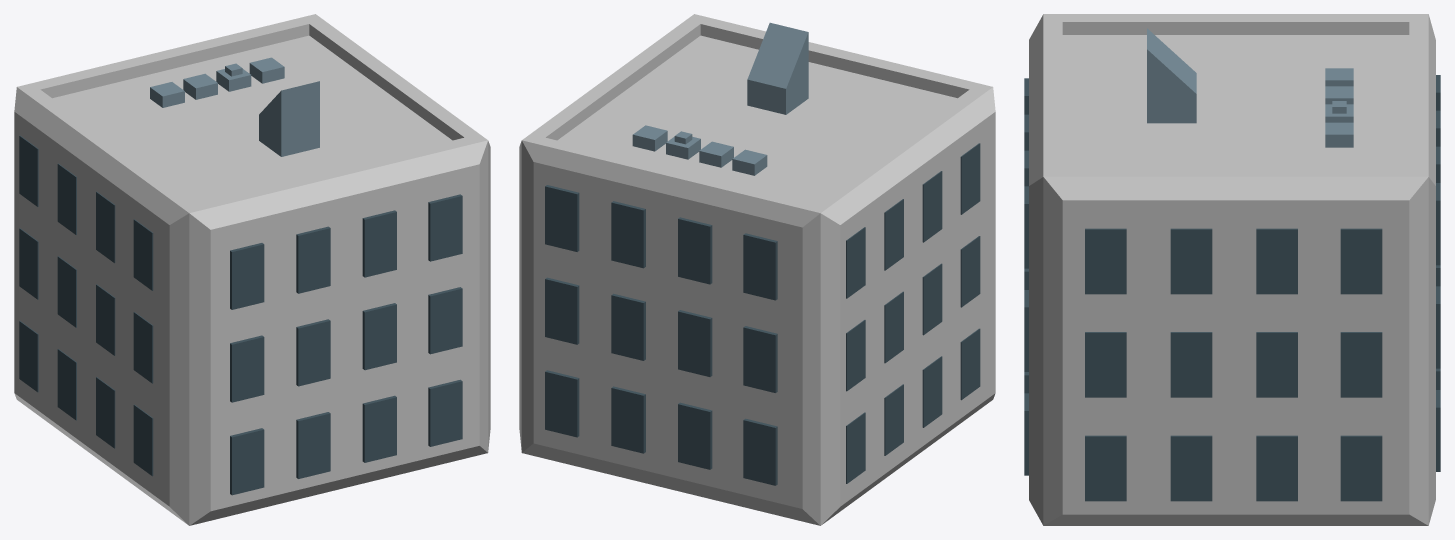
The picture shows the model from 3 angles, left to right: view 1: azimuth 30°, elevation 25°; view 2: azimuth 150°, elevation 25°; view 3: azimuth 270°, elevation 25°; orthographic projection. The views are drawn at different scales.
Bounding box in the file's own units: 0.585 × 0.635 × 0.5833.
